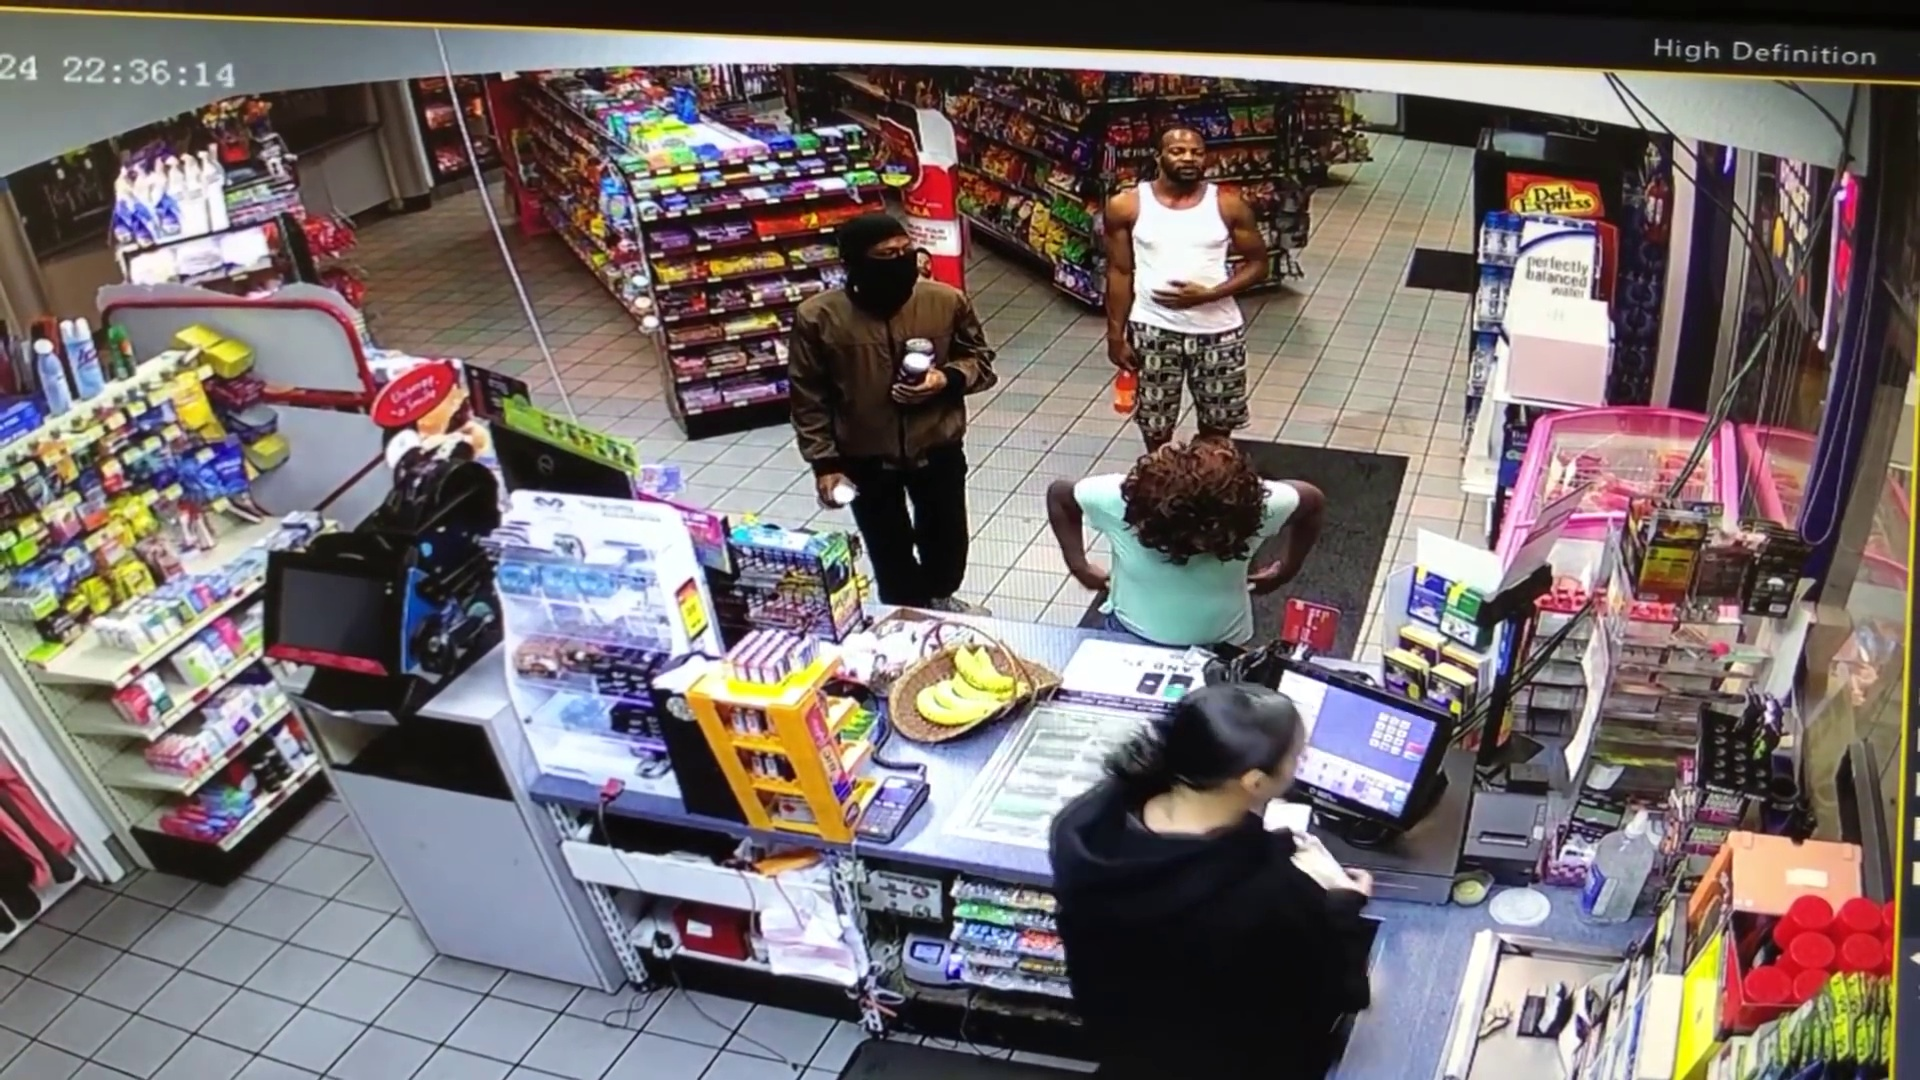face: (859, 232, 909, 289), (1158, 130, 1202, 184)
